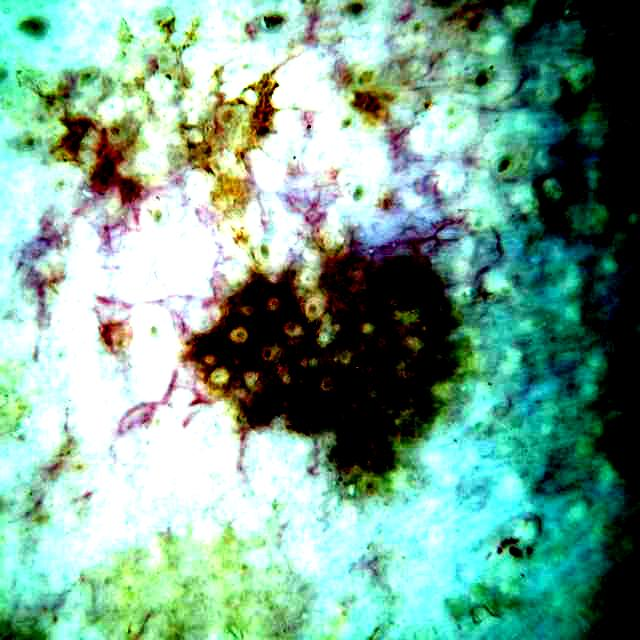AKIEC: (65, 40, 477, 500)
